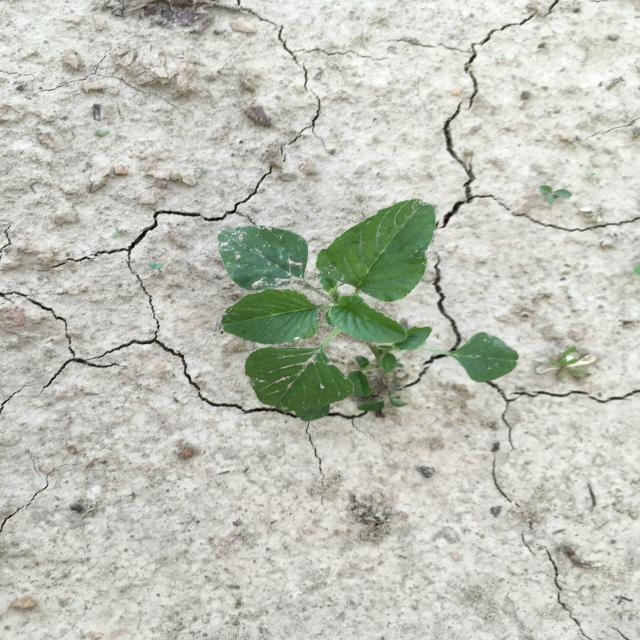PalmerAmaranth: (215, 198, 521, 423)
